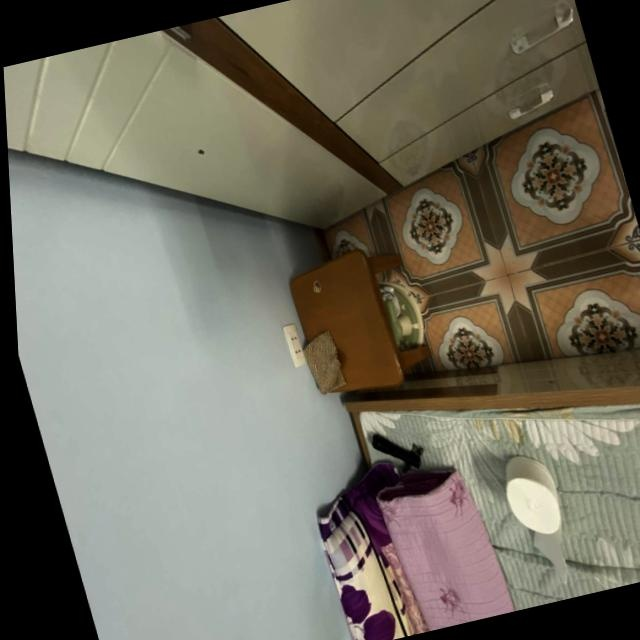outlet: (282, 322, 307, 367)
